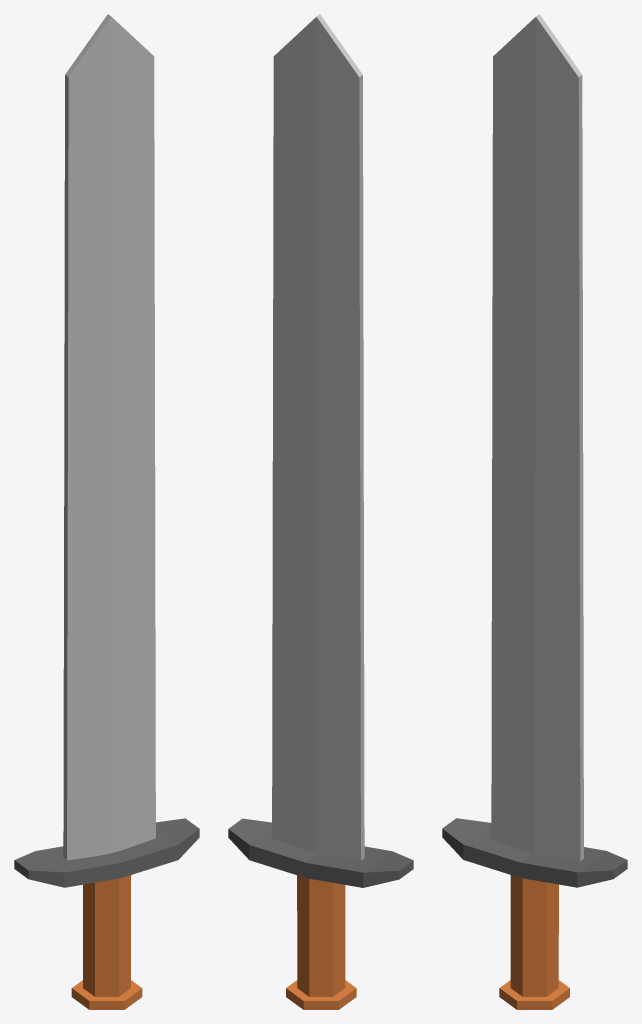
The model's file is klc (1).fbx.
3 views of the same model, side by side, from view 1: azimuth 30°, elevation 25°; view 2: azimuth 150°, elevation 25°; view 3: azimuth 330°, elevation 25° (orthographic).
Parts seen in each view (by area): view 1: kılıç; view 2: kılıç; view 3: kılıç.
Boxes of the visible parts, left/top/right/bottom form: kılıç: left=14, top=14, right=199, bottom=1009; kılıç: left=228, top=14, right=413, bottom=1009; kılıç: left=442, top=14, right=627, bottom=1009.
Size of the model in its own units: 121 by 663 by 43.13.
